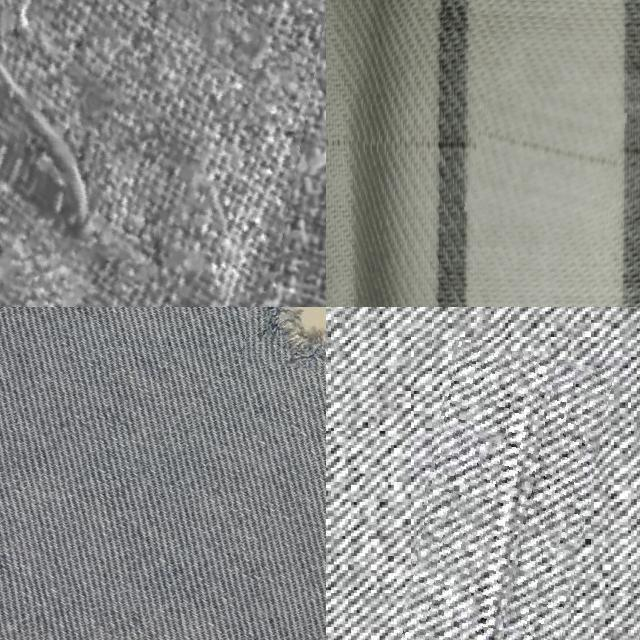other: (246, 307, 326, 376)
stains: (385, 345, 591, 640), (470, 93, 622, 231)
